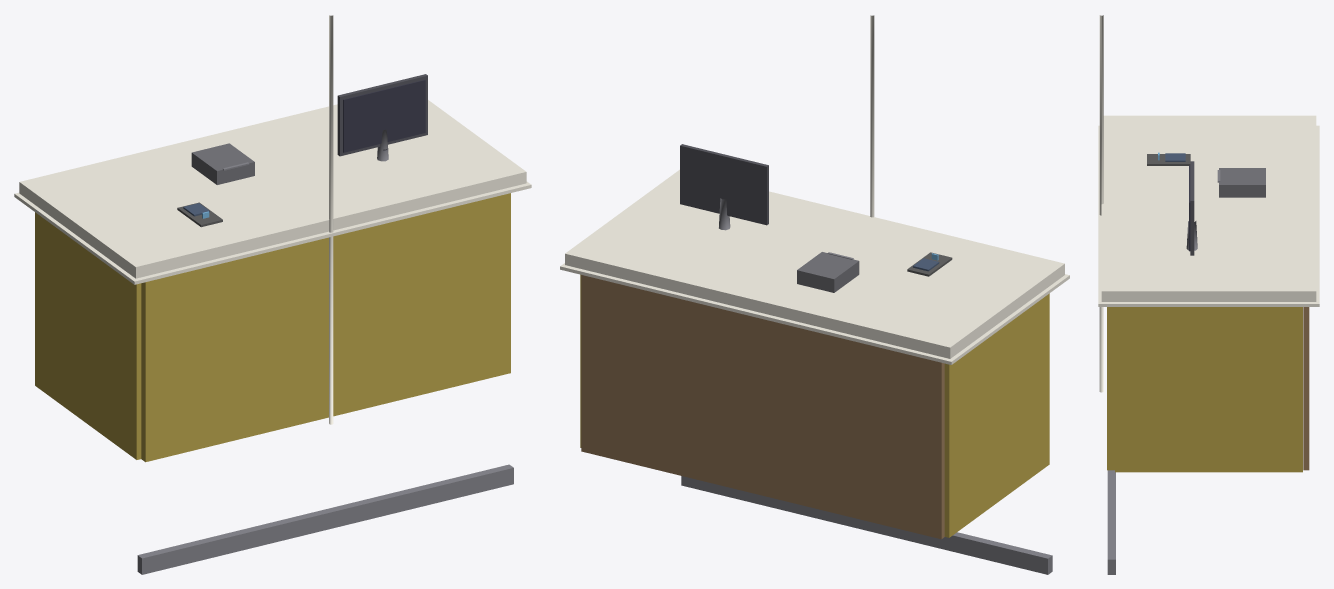
Rendered from register_counter.glb.
3 renders of one model, left to right at view 1: azimuth 30°, elevation 25°; view 2: azimuth 150°, elevation 25°; view 3: azimuth 270°, elevation 25°, orthographic. The views are drawn at different scales.
Parts seen in each view (by area): view 1: front, top, sides, plinth, tablet_screen, top_edge, top_nose, receipt_printer, tablet_bezel; view 2: back, top, sides, tablet_bezel, plinth, top_edge, receipt_printer, top_nose; view 3: top, sides, top_edge, top_nose, receipt_printer, front, back, plinth, tablet_bezel, card_reader.
Part boxes in pixels (left/top/right/bottom): front: left=141, top=193, right=510, bottom=462; top: left=19, top=100, right=526, bottom=278; sides: left=35, top=212, right=141, bottom=459; plinth: left=137, top=464, right=513, bottom=574; tablet_screen: left=343, top=79, right=425, bottom=152; top_edge: left=14, top=181, right=531, bottom=284; top_nose: left=329, top=15, right=333, bottom=424; receipt_printer: left=191, top=143, right=254, bottom=184; tablet_bezel: left=337, top=74, right=427, bottom=156; back: left=581, top=275, right=944, bottom=539; top: left=565, top=169, right=1064, bottom=358; sides: left=580, top=274, right=1049, bottom=537; tablet_bezel: left=680, top=144, right=768, bottom=225; plinth: left=681, top=476, right=1052, bottom=574; top_edge: left=560, top=263, right=1069, bottom=364; receipt_printer: left=797, top=252, right=859, bottom=292; top_nose: left=870, top=15, right=874, bottom=217; top: left=1101, top=115, right=1316, bottom=301; sides: left=1115, top=307, right=1302, bottom=472; top_edge: left=1098, top=125, right=1319, bottom=306; top_nose: left=1099, top=15, right=1103, bottom=392; receipt_printer: left=1219, top=168, right=1265, bottom=197; front: left=1107, top=307, right=1114, bottom=470; back: left=1303, top=307, right=1309, bottom=470; plinth: left=1107, top=470, right=1115, bottom=574; tablet_bezel: left=1190, top=161, right=1194, bottom=255; card_reader: left=1147, top=154, right=1190, bottom=165.
Bounding box in the file's own units: 1.26 × 1.57 × 0.66.
